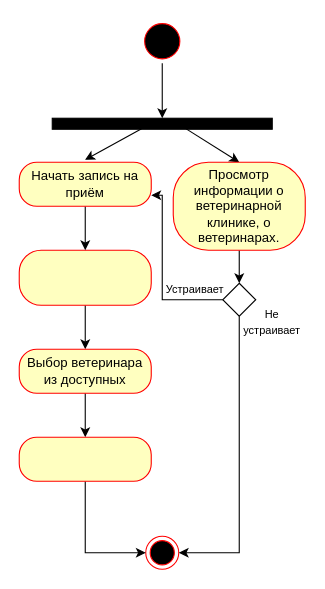
Some shapes in this 325 by 589 pixel diagram are drawn without their labels. Here are the shapes that lost their labels. From the top down, the centre of each, then its label:
At point 84,277: "Просмотр расписания, выбор удобного времени".
At point 84,458: "Подтверждение записи на приём".
